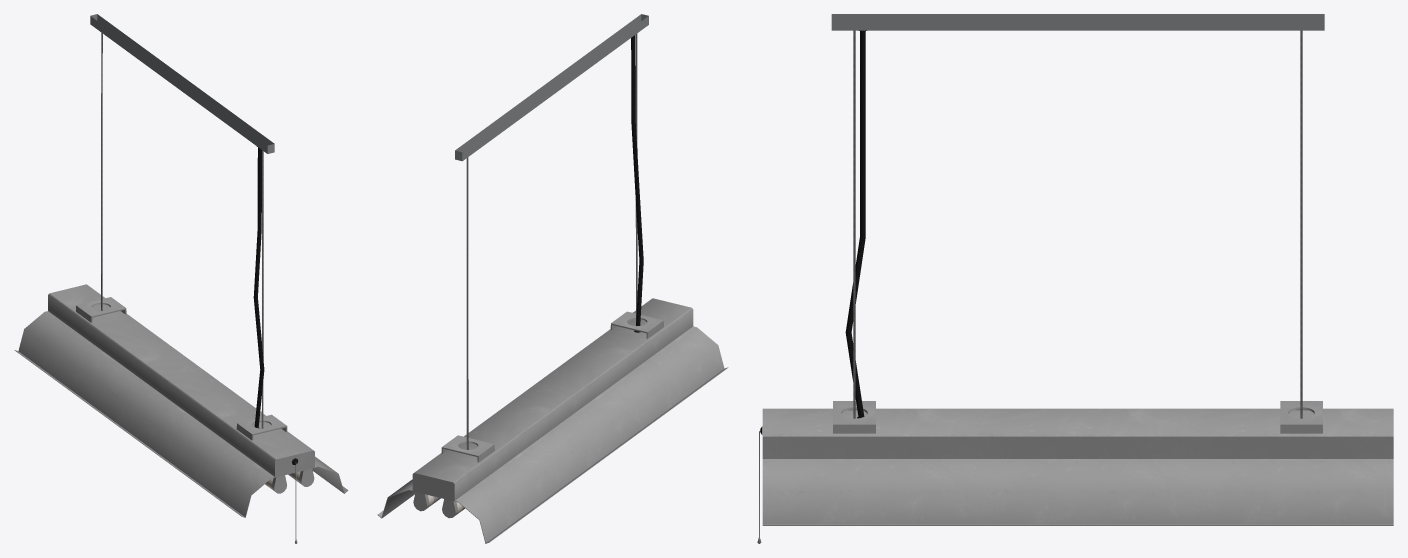
The model's file is LampHanging_B.fbx.
3 views of the same model, side by side, from view 1: azimuth 30°, elevation 25°; view 2: azimuth 150°, elevation 25°; view 3: azimuth 270°, elevation 25° (orthographic). The views are drawn at different scales.
Parts seen in each view (by area): view 1: LampHanging_B; view 2: LampHanging_B; view 3: LampHanging_B.
Boxes of the visible parts, x1,y1,x2,y2 form: LampHanging_B: (14,14,348,543); LampHanging_B: (377,14,728,543); LampHanging_B: (757,14,1393,543).
Size of the model in its own units: 26.13 by 88.6 by 96.78.
